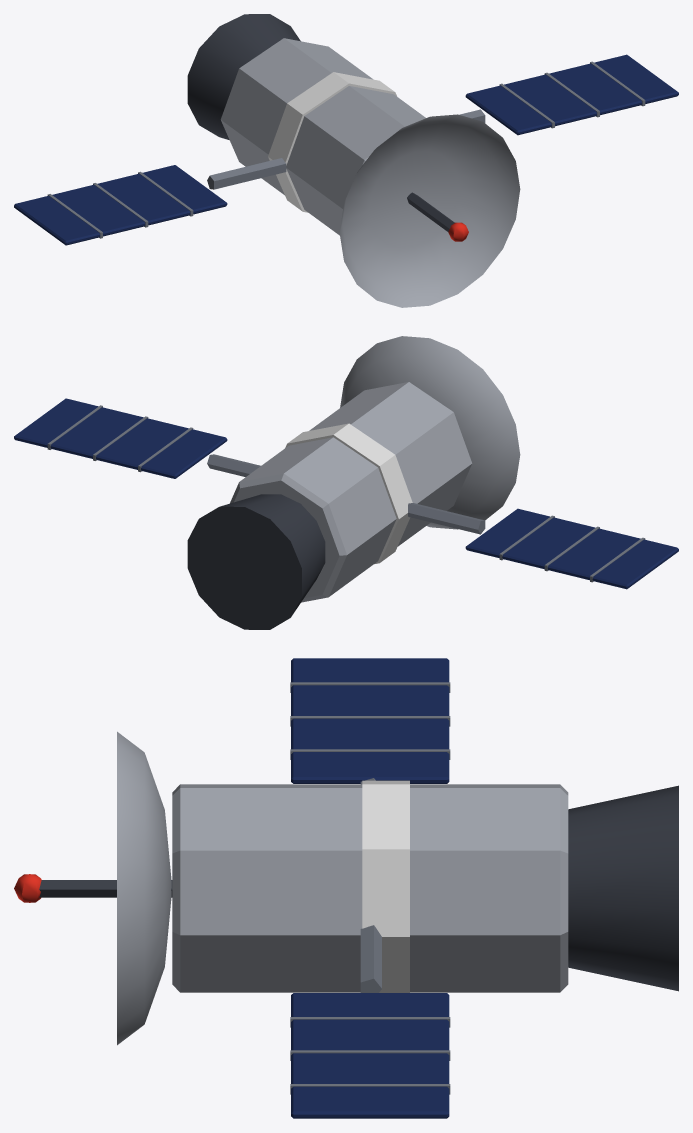
File: probe.fbx
The picture shows the model from 3 angles, top to bottom: view 1: azimuth 30°, elevation 25°; view 2: azimuth 150°, elevation 25°; view 3: azimuth 270°, elevation 25°; orthographic projection. The views are drawn at different scales.
Visible parts, largest first — view 1: probe; view 2: probe; view 3: probe.
Part boxes in pixels (x1=…): probe: x1=14, y1=14, x2=678, y2=307; probe: x1=14, y1=336, x2=678, y2=629; probe: x1=14, y1=658, x2=678, y2=1118.
Size of the model in its own units: 1.36 by 0.4 by 0.84.
